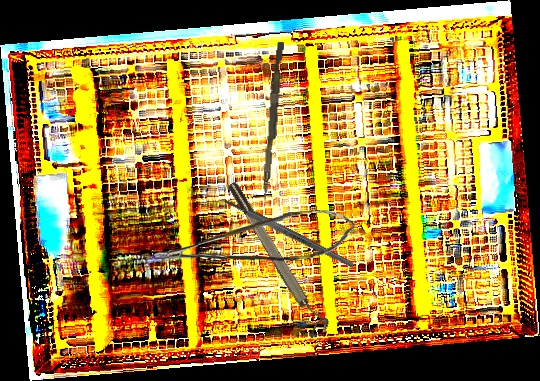Fixation Ring: (224, 175, 333, 340)
Micro Scissor: (153, 206, 357, 267)
Pusher: (261, 41, 285, 202)
Scalpel Handle: (223, 196, 355, 270)
